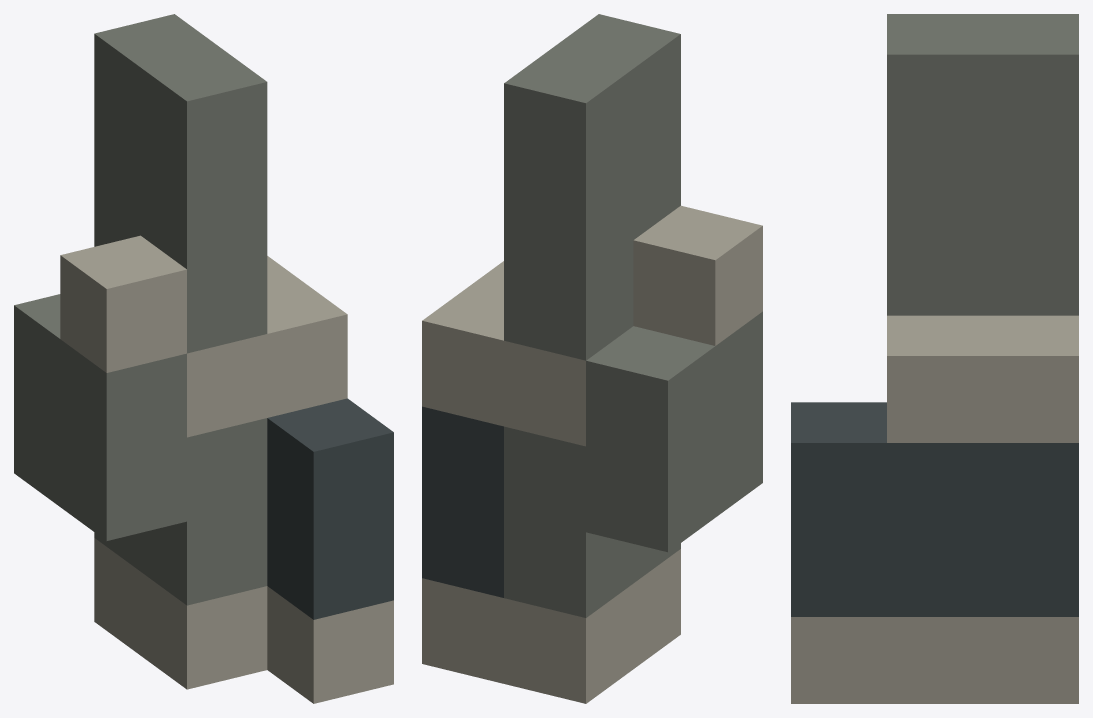
File: layered_rock_v2_species1_far.glb
3 renders of one model, left to right at view 1: azimuth 30°, elevation 25°; view 2: azimuth 150°, elevation 25°; view 3: azimuth 270°, elevation 25°, orthographic. The views are drawn at different scales.
Visible parts, largest first — view 1: layered_rock_v2_species1_far; view 2: layered_rock_v2_species1_far; view 3: layered_rock_v2_species1_far.
Part boxes in pixels (x1=…): layered_rock_v2_species1_far: x1=14, y1=14, x2=393, y2=703; layered_rock_v2_species1_far: x1=422, y1=14, x2=762, y2=703; layered_rock_v2_species1_far: x1=791, y1=14, x2=1078, y2=703.
Bounding box in the file's own units: 1.5 × 3.5 × 1.5.
Materials: 1 (1 with a texture image).
